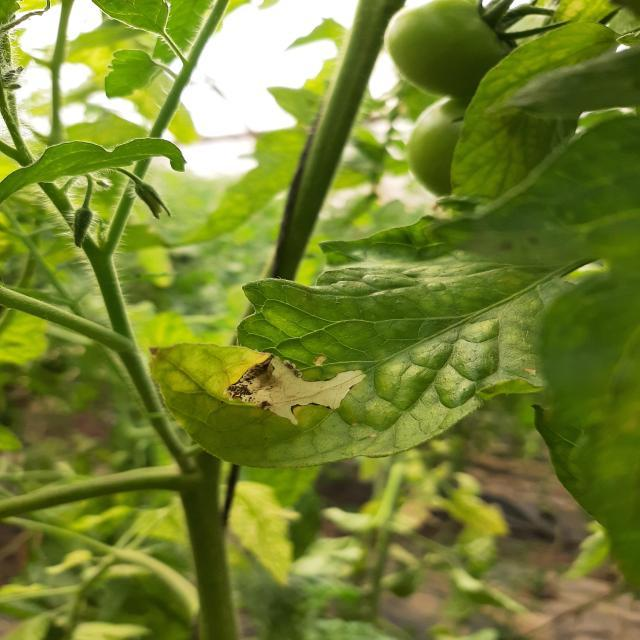Tuta absoluta: (222, 330, 366, 441)
